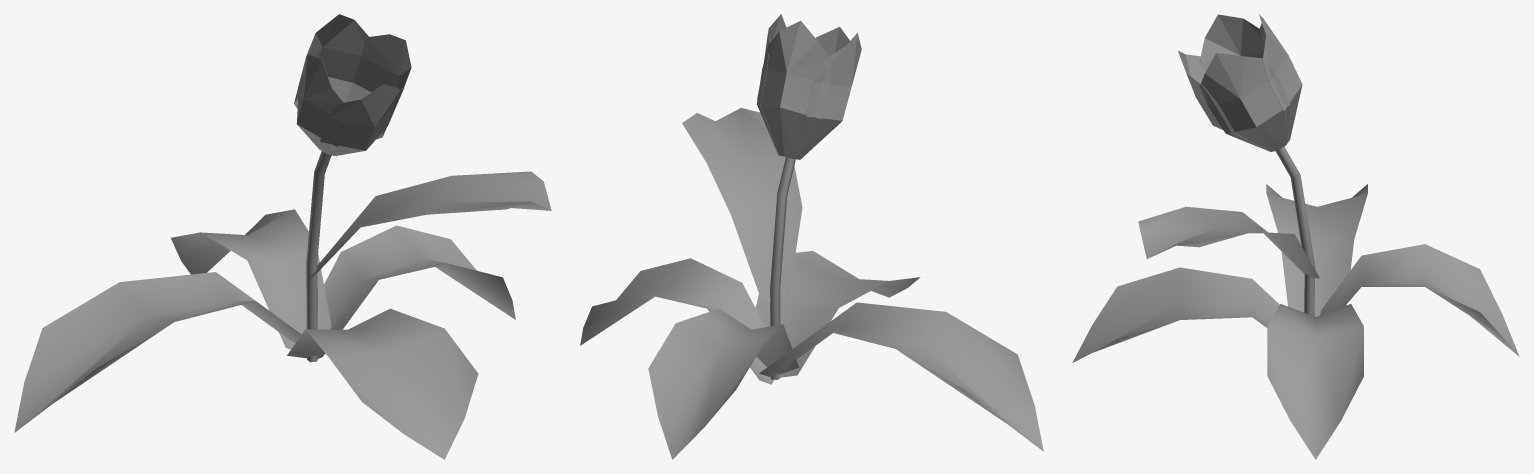
File: Flower.FBX
3 renders of one model, left to right at view 1: azimuth 30°, elevation 25°; view 2: azimuth 150°, elevation 25°; view 3: azimuth 270°, elevation 25°, orthographic. The views are drawn at different scales.
Visible parts, largest first — view 1: Cylinder001; view 2: Cylinder001; view 3: Cylinder001.
Part boxes in pixels (x1=…): Cylinder001: x1=14, y1=14, x2=551, y2=459; Cylinder001: x1=580, y1=14, x2=1043, y2=459; Cylinder001: x1=1072, y1=14, x2=1519, y2=459.
Bounding box in the file's own units: 532 × 444 × 385.
